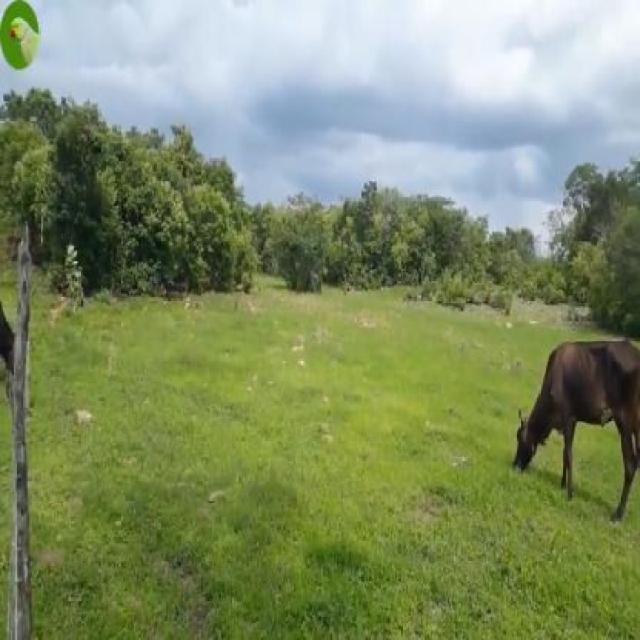Cow: (512, 340, 638, 518)
